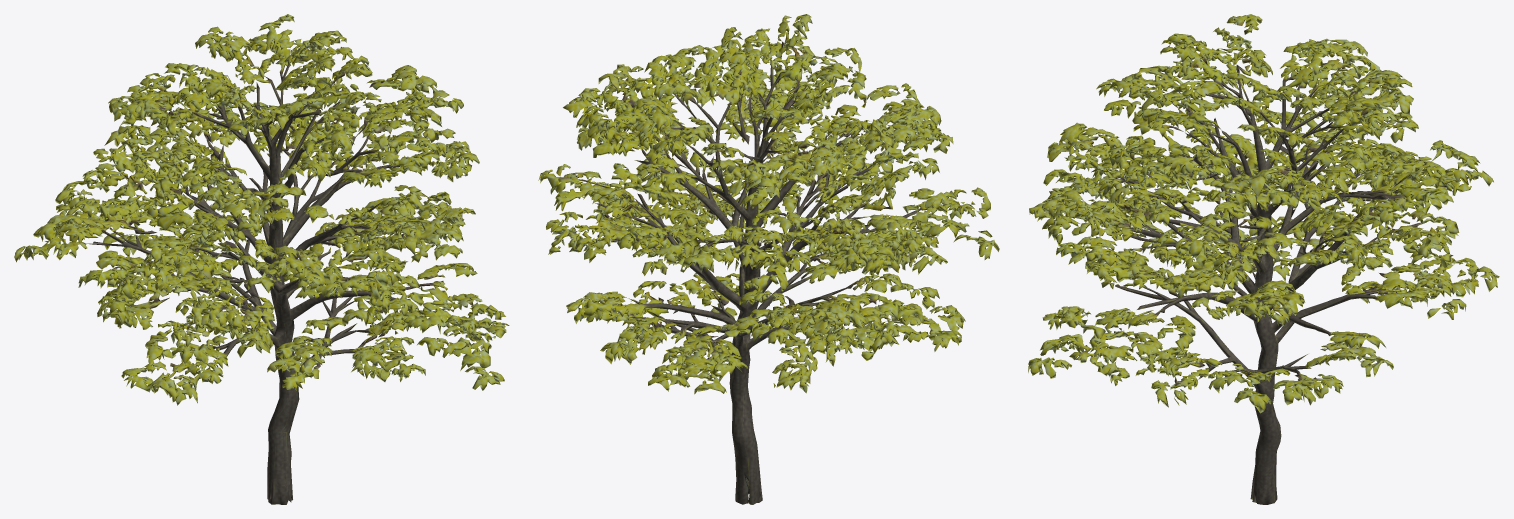
File: tree_03_spring_lime.glb
3 renders of one model, left to right at view 1: azimuth 30°, elevation 25°; view 2: azimuth 150°, elevation 25°; view 3: azimuth 270°, elevation 25°, orthographic.
Parts seen in each view (by area): view 1: world; view 2: world; view 3: world.
Boxes of the visible parts, x1,y1,x2,y2 form: world: (14,14,509,504); world: (538,14,999,504); world: (1028,14,1499,504).
Bounding box in the file's own units: 0.8829 × 1 × 0.9287.
Materials: 1 (1 with a texture image).
